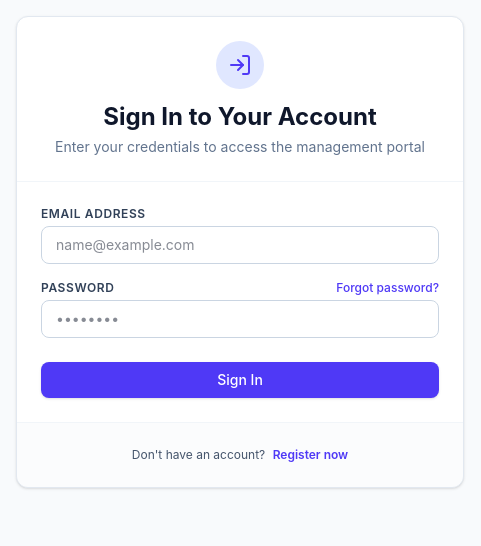
Test: LoginPage Component › validates required fields on empty submit
Click the button "Sign In". click: {"x": 240, "y": 380}
box: [41, 362, 439, 398]
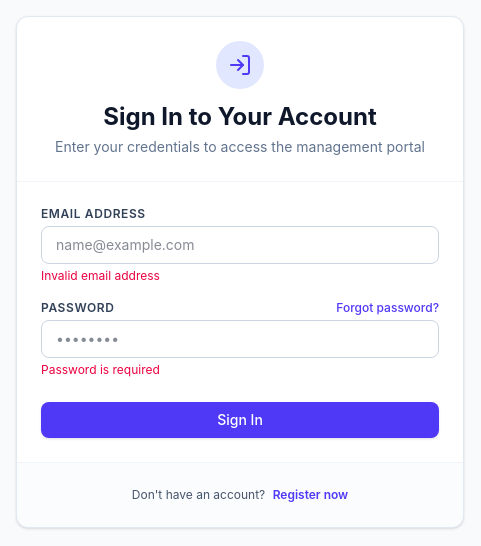
Now the text "Invalid email address" is shown, box [41, 268, 160, 283]
